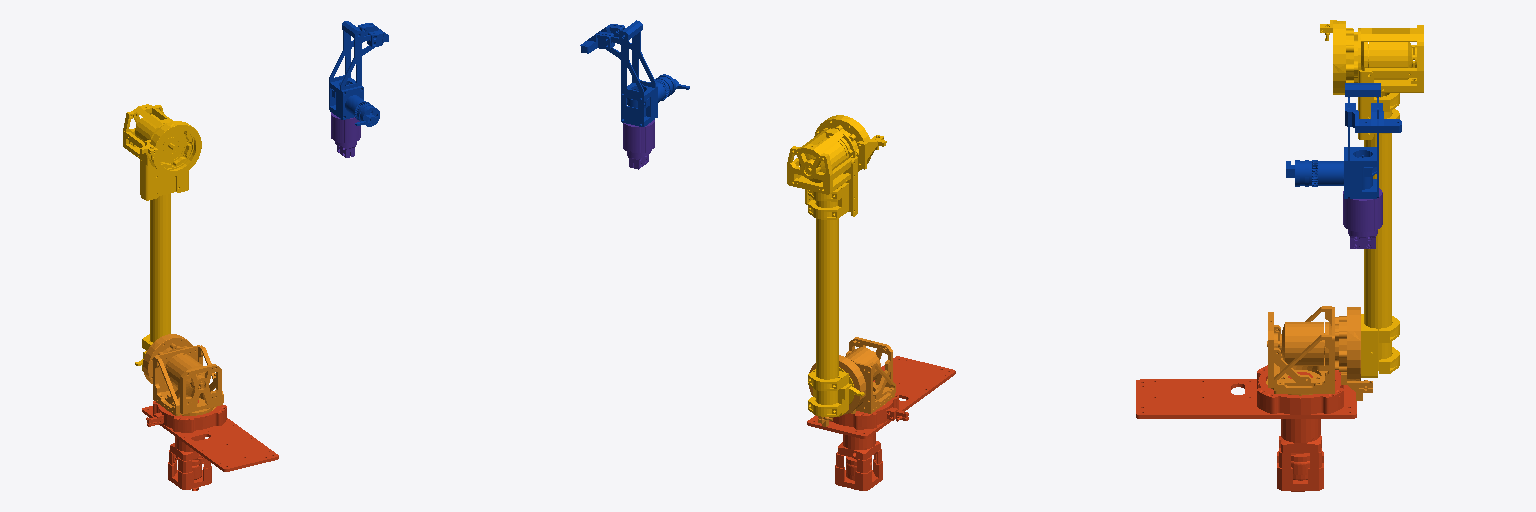
URDF robot description (arm_raisim):
<?xml version="1.0" ?>
<!-- Generated using onshape-to-robot -->
<!-- Onshape https://tronsoc.onshape.com/documents/fb8bca0dfb0cea1c39c256da/w/2ca30c591ed586a6afd2ccdb/e/296bb380ae55fa31d51d4ef5 -->
<robot name="arm_raisim">
    <!-- World link -->
  <link name="world"/>
  <!-- World fixed joint -->
  <joint name="world_to_link_0" type="fixed">
    <origin xyz="0 0 1.5" rpy="0 0 0"/>
    <parent link="world"/>
    <child link="baserotation"/>
  </joint>
  <!-- Link baserotation -->
  <link name="baserotation">
    
    <inertial>
      <origin xyz="-0.000685162 -0.026707 -0.0336408" rpy="0 0 0"/>
      <mass value="2"/>
      <inertia ixx="0.0135135" ixy="6.73183e-05" ixz="6.89543e-05" iyy="0.00589845" iyz="0.00163027" izz="0.0109675"/>
    </inertial>
    <!-- Part baserotation -->
    <visual>
      <origin xyz="0.000534043 -0.0803056 -0.006" rpy="0 -0 1.5708"/>
      <geometry>
        <mesh filename="../meshes/baserotation.obj"/>
      </geometry>
      <material name="baserotation_material">
        <color rgba="0.866667 0.321569 0.156863 1.0"/>
      </material>
    </visual>
    <collision>
      <origin xyz="0.000534043 -0.0803056 -0.006" rpy="0 -0 1.5708"/>
      <geometry>
        <mesh filename="../meshes/baserotation.obj"/>
      </geometry>
    </collision>
  </link>
  <!-- Link link1 -->
  <link name="link1">
    <inertial>
      <origin xyz="0.000216753 0.0153434 0.0552363" rpy="0 0 0"/>
      <mass value="2.5"/>
      <inertia ixx="0.00640313" ixy="-3.8755e-05" ixz="1.88755e-05" iyy="0.00487168" iyz="-0.0007241" izz="0.00488291"/>
    </inertial>
    <!-- Part link1 -->
    <visual>
      <origin xyz="0.000534043 -0.0803056 -0.006" rpy="0 -0 1.5708"/>
      <geometry>
        <mesh filename="../meshes/link1.obj"/>
      </geometry>
      <material name="link1_material">
        <color rgba="0.909804 0.572549 0.164706 1.0"/>
      </material>
    </visual>
    <collision>
      <origin xyz="0.000534043 -0.0803056 -0.006" rpy="0 -0 1.5708"/>
      <geometry>
        <mesh filename="../meshes/link1.obj"/>
      </geometry>
    </collision>
  </link>
  <!-- Link link2 -->
  <link name="link2">
    <inertial>
      <origin xyz="-0.00106845 -0.334577 0.108225" rpy="0 0 0"/>
      <mass value="1"/>
      <inertia ixx="0.0319052" ixy="-3.85103e-05" ixz="-4.59646e-05" iyy="0.00146164" iyz="0.000441543" izz="0.0315154"/>
    </inertial>
    <!-- Part link2 -->
    <visual>
      <origin xyz="-0.0854675 0.0281718 -0.0803056" rpy="-1.5708 -1.57079 -1.88359"/>
      <geometry>
        <mesh filename="../meshes/link2.obj"/>
      </geometry>
      <material name="link2_material">
        <color rgba="1 0.756863 0.054902 1.0"/>
      </material>
    </visual>
    <collision>
      <origin xyz="-0.0854675 0.0281718 -0.0803056" rpy="-1.5708 -1.57079 -1.88359"/>
      <geometry>
        <mesh filename="../meshes/link2.obj"/>
      </geometry>
    </collision>
  </link>
  <!-- Link link3 -->
  <link name="link3">
    <inertial>
      <origin xyz="-0.0108991 0.249104 0.0843538" rpy="0 0 0"/>
      <mass value="1"/>
      <inertia ixx="0.0256984" ixy="0.00124988" ixz="1.85772e-05" iyy="0.00107522" iyz="-0.000150845" izz="0.0261028"/>
    </inertial>
    <!-- Part link3 -->
    <visual>
      <origin xyz="0.318581 0.366655 0.191306" rpy="1.5708 1.57079 -1.79654"/>
      <geometry>
        <mesh filename="../meshes/link3.obj"/>
      </geometry>
      <material name="link3_material">
        <color rgba="0.372549 0.654902 0.239216 1.0"/>
      </material>
    </visual>
    <collision>
      <origin xyz="0.318581 0.366655 0.191306" rpy="1.5708 1.57079 -1.79654"/>
      <geometry>
        <mesh filename="../meshes/link3.obj"/>
      </geometry>
    </collision>
  </link>
  <!-- Link link4 -->
  <link name="link4">
    <inertial>
      <origin xyz="-0.0101576 0.0208998 0.0499988" rpy="0 0 0"/>
      <mass value="1.1"/>
      <inertia ixx="0.00459271" ixy="0.00107232" ixz="0.000338999" iyy="0.00200768" iyz="-0.000596857" izz="0.00398845"/>
    </inertial>
    <!-- Part l4 -->
    <visual>
      <origin xyz="-0.0334738 -0.125328 0.10692" rpy="-2.6179e-09 -1.5708 0"/>
      <geometry>
        <mesh filename="../meshes/l4.obj"/>
      </geometry>
      <material name="l4_material">
        <color rgba="0.0862745 0.317647 0.690196 1.0"/>
      </material>
    </visual>
    <collision>
      <origin xyz="-0.0334738 -0.125328 0.10692" rpy="-2.6179e-09 -1.5708 0"/>
      <geometry>
        <mesh filename="../meshes/l4.obj"/>
      </geometry>
    </collision>
    <!-- Part link4 -->
    <visual>
      <origin xyz="0.308891 -0.0813846 -0.100806" rpy="-1.5708 -1.57079 1.46577"/>
      <geometry>
        <mesh filename="../meshes/link4.obj"/>
      </geometry>
      <material name="link4_material">
        <color rgba="0.0862745 0.317647 0.690196 1.0"/>
      </material>
    </visual>
    <collision>
      <origin xyz="0.308891 -0.0813846 -0.100806" rpy="-1.5708 -1.57079 1.46577"/>
      <geometry>
        <mesh filename="../meshes/link4.obj"/>
      </geometry>
    </collision>
  </link>
  <!-- Link l5 -->
  <link name="l5">
    <inertial>
      <origin xyz="5.44913e-05 -0.00630061 -0.0848165" rpy="0 0 0"/>
      <mass value="0.5"/>
      <inertia ixx="0.00109311" ixy="5.20581e-07" ixz="-2.37164e-07" iyy="0.0013298" iyz="-5.02781e-05" izz="0.000476354"/>
    </inertial>
    <!-- Part l5 -->
    <visual>
      <origin xyz="-0.0384804 0.0334738 -0.0963276" rpy="1.5708 -1.08385e-14 -3.14159"/>
      <geometry>
        <mesh filename="../meshes/l5.obj"/>
      </geometry>
      <material name="l5_material">
        <color rgba="0.368627 0.25098 0.643137 1.0"/>
      </material>
    </visual>
    <collision>
      <origin xyz="-0.0384804 0.0334738 -0.0963276" rpy="1.5708 -1.08385e-14 -3.14159"/>
      <geometry>
        <mesh filename="../meshes/l5.obj"/>
      </geometry>
    </collision>
    <!-- Part fre_gripper__fixed -->
    <visual>
      <origin xyz="0.0030445 -0.0021803 -0.22135" rpy="-1.5708 1.14181e-14 2.60765e-09"/>
      <geometry>
        <mesh filename="../meshes/fre_gripper__fixed.obj"/>
      </geometry>
      <material name="fre_gripper__fixed_material">
        <color rgba="0.596078 0.121569 0.67451 1.0"/>
      </material>
    </visual>
    <collision>
      <origin xyz="0.0030445 -0.0021803 -0.22135" rpy="-1.5708 1.14181e-14 2.60765e-09"/>
      <geometry>
        <mesh filename="../meshes/fre_gripper__fixed.obj"/>
      </geometry>
    </collision>
  </link>
  <!-- Frame gripper_endpoint (dummy link + fixed joint) -->
  <link name="gripper_endpoint">
    <origin xyz="0 0 0" rpy="0 -0 0"/>
    <inertial>
      <origin xyz="0 0 0" rpy="0 0 0"/>
      <mass value="1e-9"/>
      <inertia ixx="0" ixy="0" ixz="0" iyy="0" iyz="0" izz="0"/>
    </inertial>
  </link>
  <joint name="gripper_endpoint_frame" type="fixed">
    <origin xyz="2.61013e-13 -0.0001 -0.212725" rpy="-3.14159 1.14181e-14 2.60765e-09"/>
    <parent link="l5"/>
    <child link="gripper_endpoint"/>
    <axis xyz="0 0 0"/>
  </joint>
  <!-- Joint from link4 to l5 -->
  <joint name="j4" type="revolute">
    <origin xyz="-1.12497e-09 -0.029 0.06844" rpy="-1.5708 1.5708 0"/>
    <parent link="link4"/>
    <child link="l5"/>
    <axis xyz="0 0 1"/>
    <limit effort="10" velocity="10" lower="-3.141592653589793" upper="3.141592653589793"/>
  </joint>
  <!-- Joint from link3 to link4 -->
  <joint name="j3" type="revolute">
    <origin xyz="-1.11022e-16 0.39 0.0905" rpy="3.14159 7.24761e-15 -1.5708"/>
    <parent link="link3"/>
    <child link="link4"/>
    <axis xyz="0 0 1"/>
    <limit effort="10" velocity="10" lower="-3.141592653589793" upper="3.141592653589793"/>
  </joint>
  <!-- Joint from link2 to link3 -->
  <joint name="j2" type="revolute">
    <origin xyz="6.24086e-17 -0.45 0.111" rpy="3.14159 -1.38023e-15 1.5708"/>
    <parent link="link2"/>
    <child link="link3"/>
    <axis xyz="0 0 1"/>
    <limit effort="10" velocity="10" lower="-3.141592653589793" upper="3.141592653589793"/>
  </joint>
  <!-- Joint from link1 to link2 -->
  <joint name="j1" type="revolute">
    <origin xyz="-1.74231e-16 -1.91513e-15 0.084" rpy="-1.5708 1.04613e-10 -6.08527e-06"/>
    <parent link="link1"/>
    <child link="link2"/>
    <axis xyz="0 0 1"/>
    <limit effort="10" velocity="10" lower="-3.141592653589793" upper="3.141592653589793"/>
  </joint>
  <!-- Joint from baserotation to link1 -->
  <joint name="j0" type="revolute">
    <origin xyz="-2.97613e-16 -1.23512e-15 8.67362e-19" rpy="-1.14367e-26 -1.59082e-28 6.6382e-36"/>
    <parent link="baserotation"/>
    <child link="link1"/>
    <axis xyz="0 0 1"/>
    <limit effort="10" velocity="10" lower="-3.141592653589793" upper="3.141592653589793"/>
  </joint>
</robot>

--- What the picture shows (computed from the rendered views, not written in the file) ---
Views: 3 orthographic renders of the robot side by side, from view 1: azimuth 30°, elevation 25°; view 2: azimuth 150°, elevation 25°; view 3: azimuth 270°, elevation 25°.
Robot: arm_raisim — 8 links, 7 joints (5 revolute, 2 fixed); root link world; default pose: all joints at 0.
Links seen in each view (by area): view 1: link2, baserotation, link1, link4, l5; view 2: link2, baserotation, link4, link1, l5; view 3: link2, baserotation, link1, link4, l5.
Link boxes in pixels (bbox=[...]): link2: bbox=[123, 104, 201, 370]; baserotation: bbox=[142, 400, 278, 490]; link1: bbox=[143, 334, 223, 415]; link4: bbox=[329, 21, 388, 126]; l5: bbox=[331, 112, 360, 157]; link2: bbox=[787, 115, 886, 416]; baserotation: bbox=[807, 356, 955, 490]; link4: bbox=[580, 20, 689, 126]; link1: bbox=[809, 337, 895, 426]; l5: bbox=[623, 120, 654, 169]; link2: bbox=[1320, 20, 1423, 377]; baserotation: bbox=[1136, 365, 1356, 491]; link1: bbox=[1266, 306, 1372, 400]; link4: bbox=[1286, 83, 1401, 198]; l5: bbox=[1343, 188, 1382, 248].
Bounding box of the posed robot: 0.571 × 0.4115 × 0.8241 m (x, y, z).
Meshes: 8 distinct files referenced, 6 mesh visuals loaded (6 OBJ); not drawn: 2 (reference not matched to a file when rendering).
